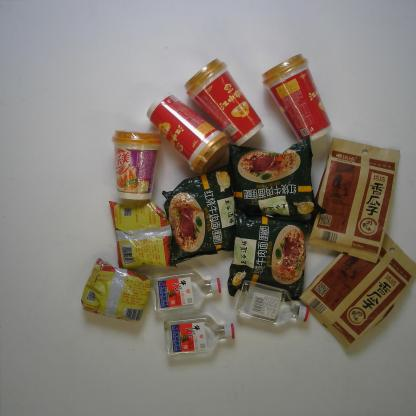Alcohol: (233, 275, 313, 330), (146, 262, 222, 316), (164, 314, 237, 362)
Dried Food: (294, 224, 414, 358), (304, 134, 407, 263)
Instant Drink: (180, 58, 270, 150), (143, 91, 234, 175), (260, 48, 335, 146), (104, 127, 168, 202)
Instant Noodles: (222, 139, 333, 229), (153, 166, 245, 266), (226, 206, 315, 306)
Seasoner: (108, 193, 180, 276), (76, 258, 156, 326)
